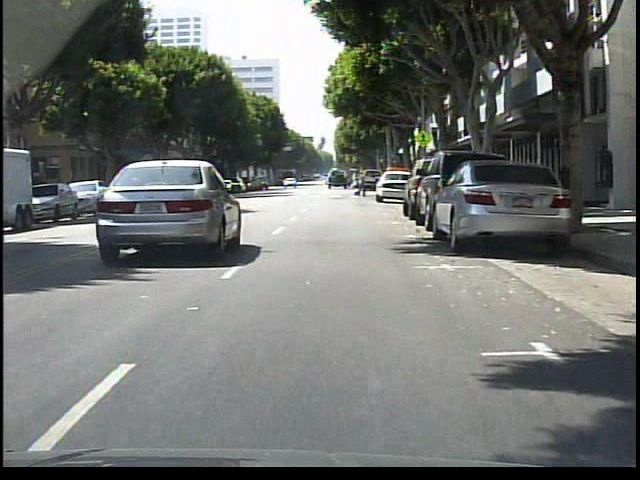person: (353, 167, 368, 196)
